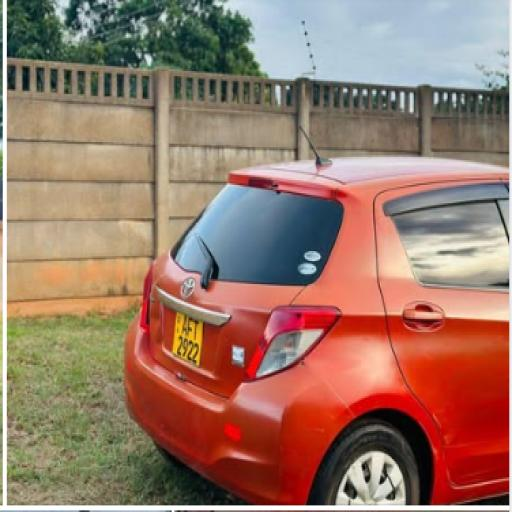number-plates: (173, 303, 203, 366)
